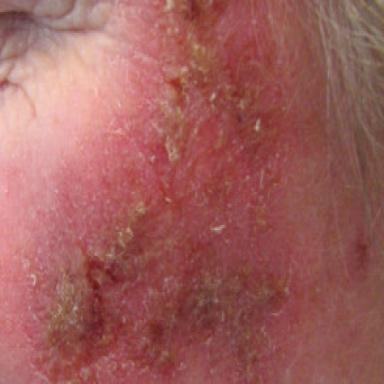eczema: (24, 0, 289, 384)
